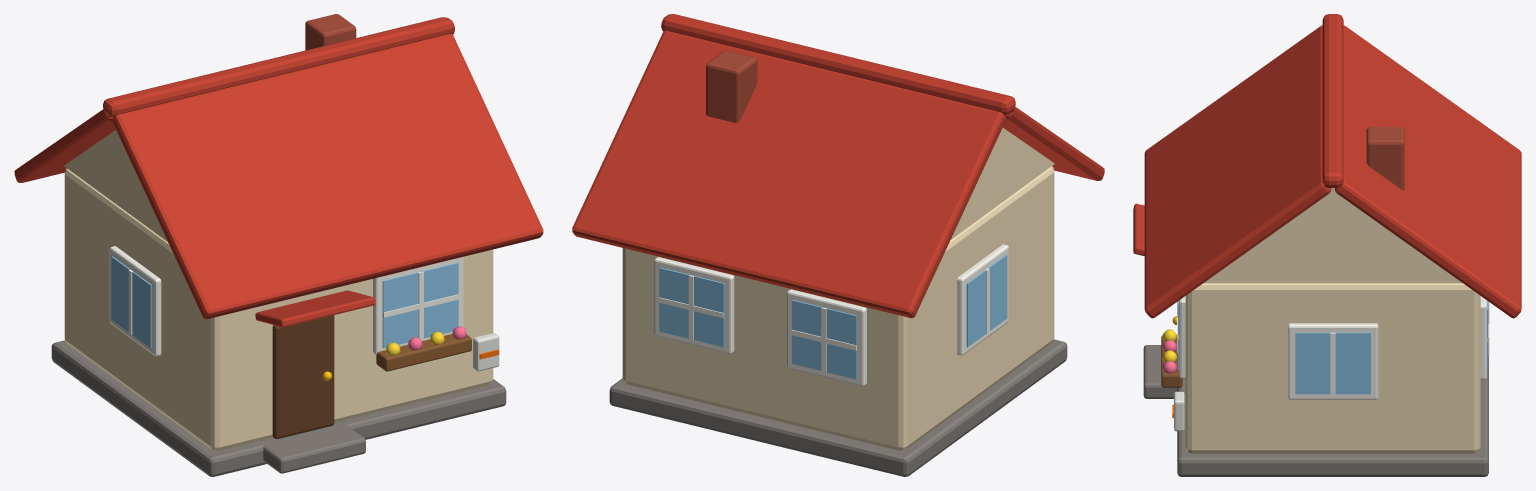
Rendered from house.glb.
3 views of the same model, side by side, from view 1: azimuth 30°, elevation 25°; view 2: azimuth 150°, elevation 25°; view 3: azimuth 270°, elevation 25° (orthographic). The views are drawn at different scales.
Parts seen in each view (by area): view 1: house; view 2: house; view 3: house.
Part boxes in pixels (<box>): house: <box>14,14,543,476</box>; house: <box>572,14,1104,476</box>; house: <box>1133,14,1521,476</box>.
Size of the model in its own units: 1.84 by 1.65 by 1.84.
